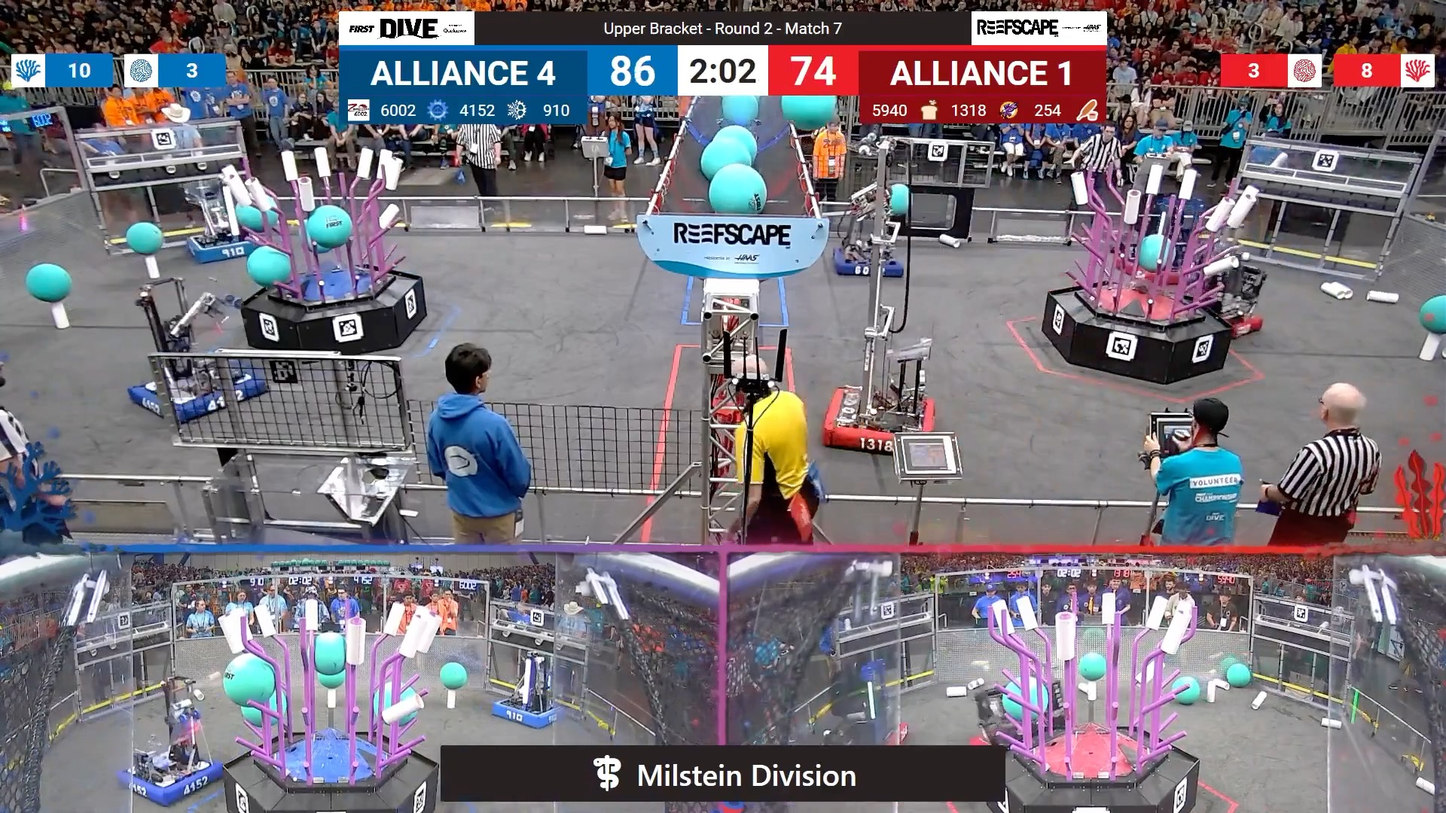bumpers: (817, 389, 944, 460), (122, 366, 264, 426), (112, 752, 226, 807), (178, 229, 272, 269), (823, 243, 912, 281), (487, 697, 567, 732), (1216, 304, 1271, 342)
